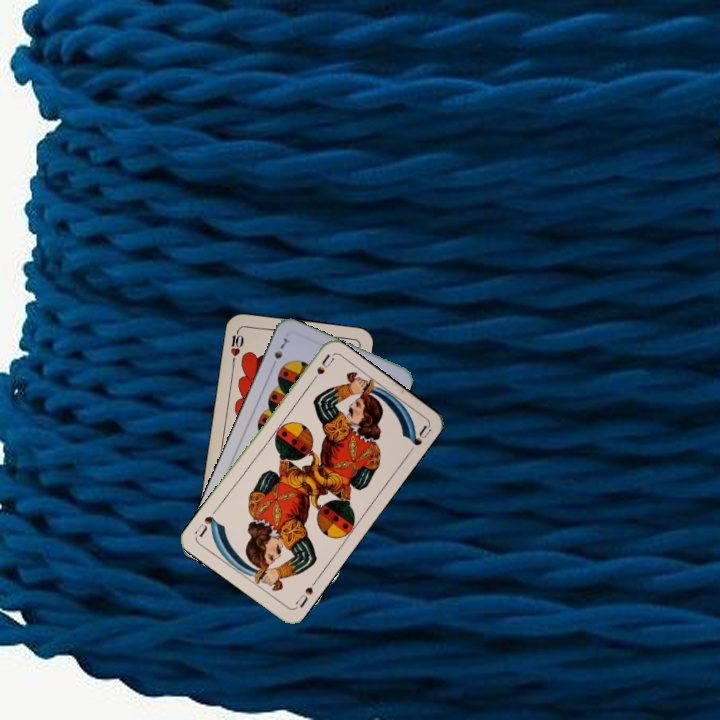H10: (226, 325, 247, 365)
S7: (268, 334, 290, 370)
SU: (305, 350, 336, 387), (291, 576, 320, 610)
